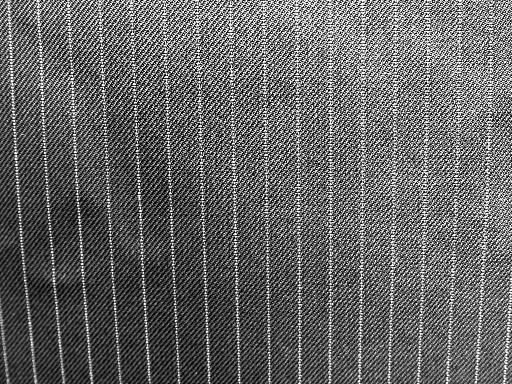fabric_perfect: (3, 3, 511, 379)
